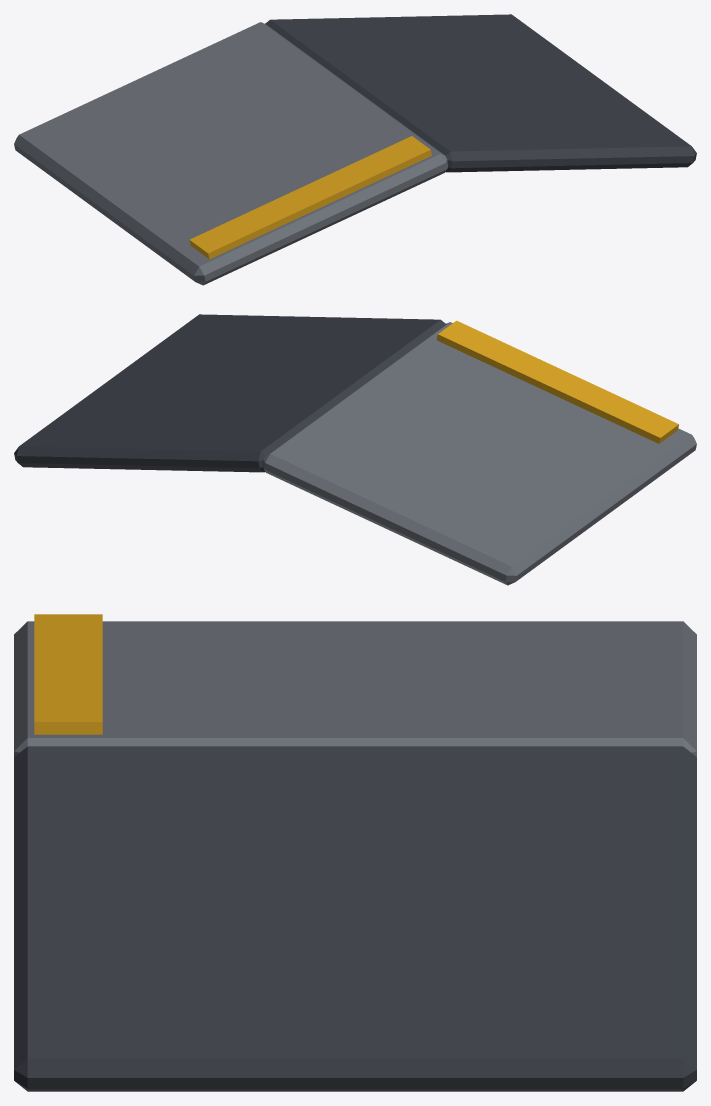
File: plate.glb
3 views of the same model, one above another, from view 1: azimuth 30°, elevation 25°; view 2: azimuth 150°, elevation 25°; view 3: azimuth 270°, elevation 25° (orthographic). The views are drawn at different scales.
Visible parts, largest first — view 1: plate; view 2: plate; view 3: plate.
Boxes of the visible parts, x1,y1,x2,y2 form: plate: [14, 14, 696, 285]; plate: [14, 314, 696, 585]; plate: [14, 614, 696, 1091].
Size of the model in its own units: 1.55 by 0.2309 by 1.
